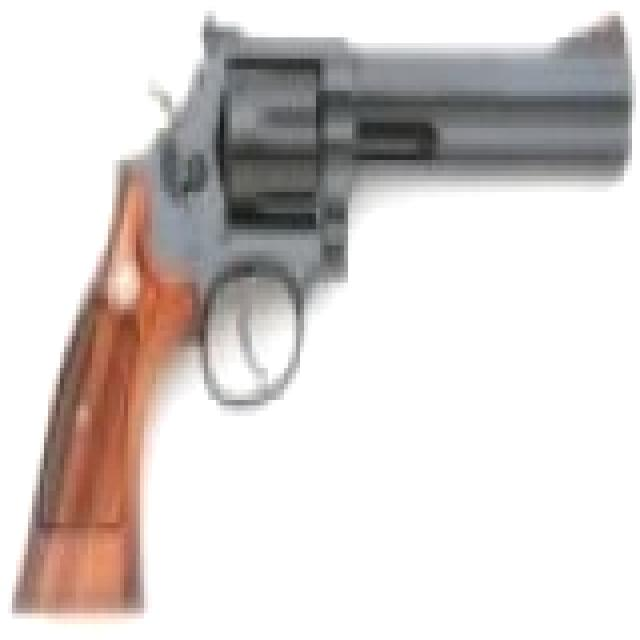pistol: (20, 5, 636, 619)
